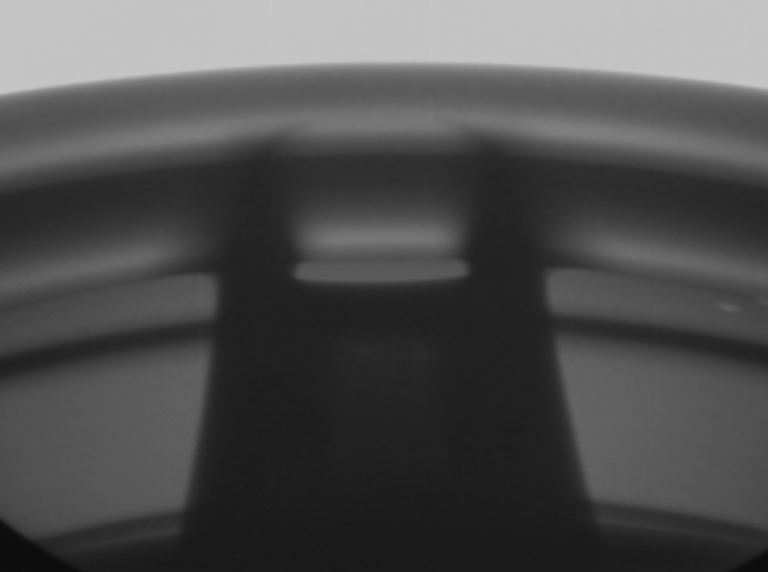defect: (717, 288, 756, 326)
